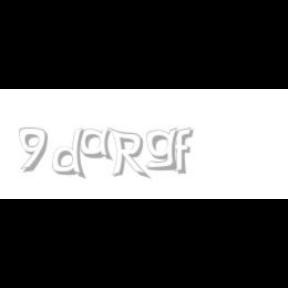9: (18, 128, 48, 172)
R: (109, 128, 147, 180)
a: (80, 128, 118, 160)
d: (53, 128, 90, 180)
f: (173, 128, 197, 174)
g: (145, 128, 182, 171)
